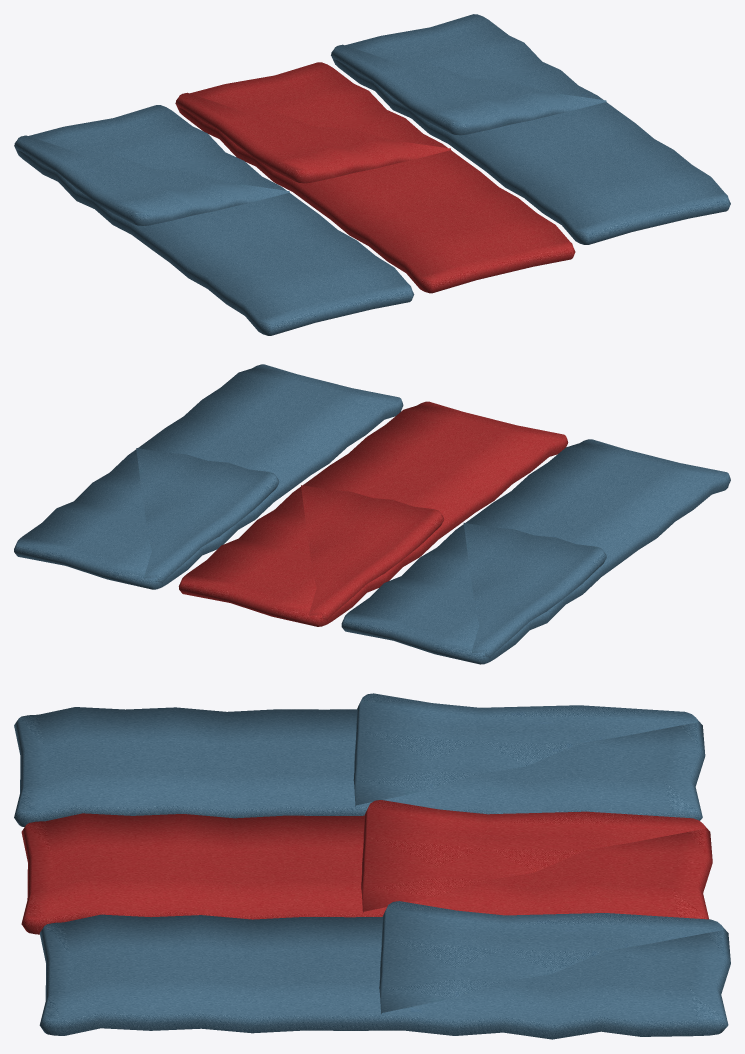
File: sleepingbags2.glb
3 views of the same model, one above another, from view 1: azimuth 30°, elevation 25°; view 2: azimuth 150°, elevation 25°; view 3: azimuth 270°, elevation 25° (orthographic). The views are drawn at different scales.
Parts seen in each view (by area): view 1: Cube.003, Cube.002, Cube.001; view 2: Cube.001, Cube.003, Cube.002; view 3: Cube.001, Cube.003, Cube.002.
Boxes of the visible parts, x1=… form: Cube.003: x1=14, y1=105, x2=414, y2=335; Cube.002: x1=175, y1=62, x2=575, y2=293; Cube.001: x1=331, y1=14, x2=730, y2=244; Cube.001: x1=14, y1=364, x2=403, y2=589; Cube.003: x1=341, y1=439, x2=730, y2=664; Cube.002: x1=178, y1=401, x2=568, y2=626; Cube.001: x1=39, y1=901, x2=730, y2=1039; Cube.003: x1=14, y1=693, x2=705, y2=826; Cube.002: x1=21, y1=800, x2=712, y2=934.
Size of the model in its own units: 1.88 by 0.1312 by 1.81.
2 materials, 2 textured.
